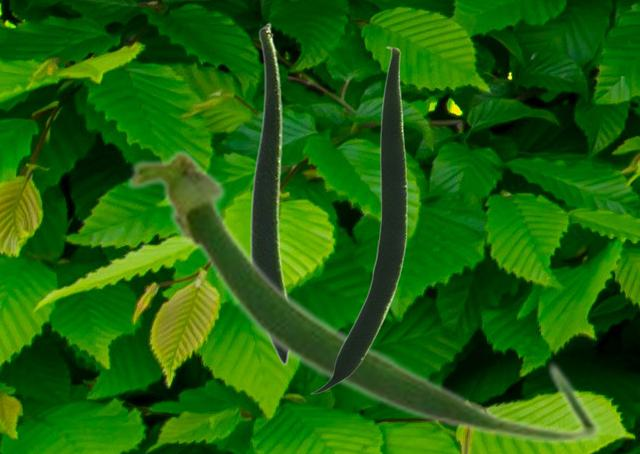french_bean: (124, 145, 602, 446), (310, 46, 406, 393), (249, 22, 290, 365)
